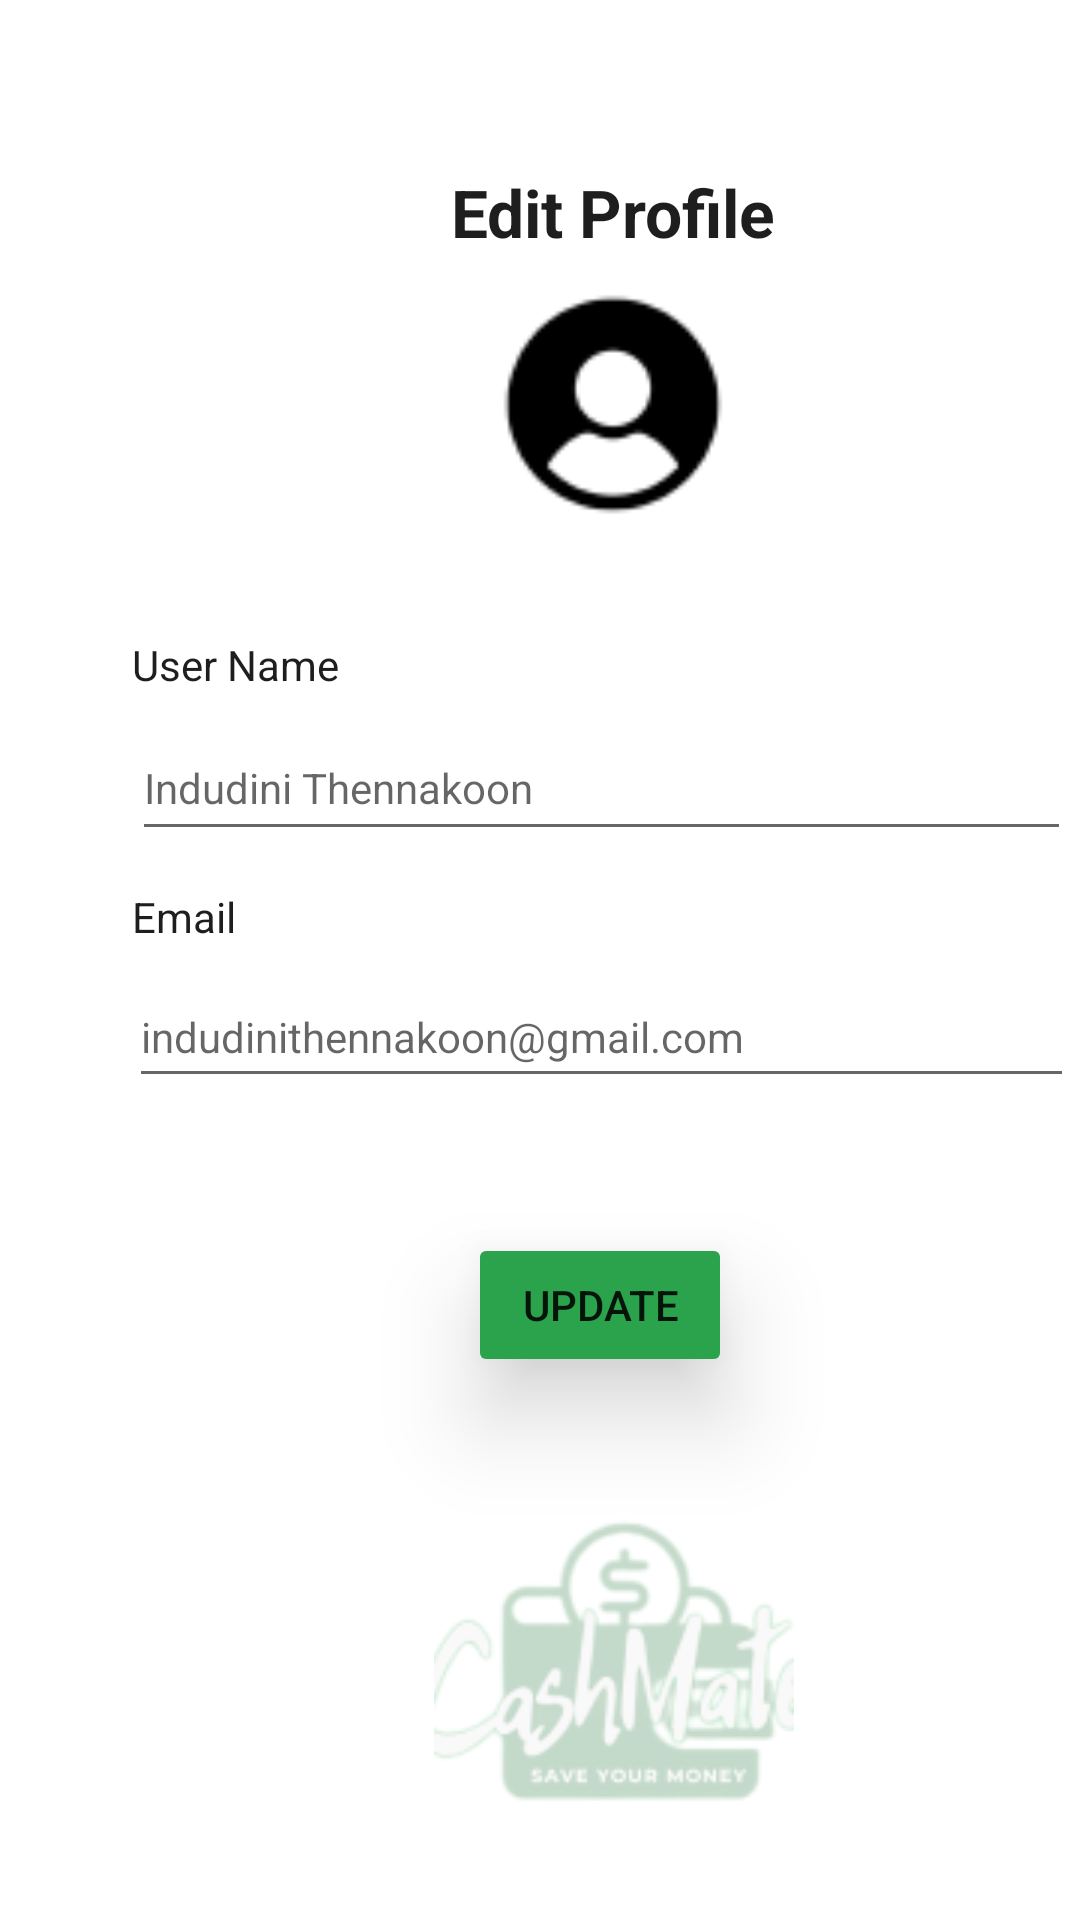

Point at icon controls on the screen. Image size 1080w x 1920h, points as (x,y).
profile user: (613,404)
